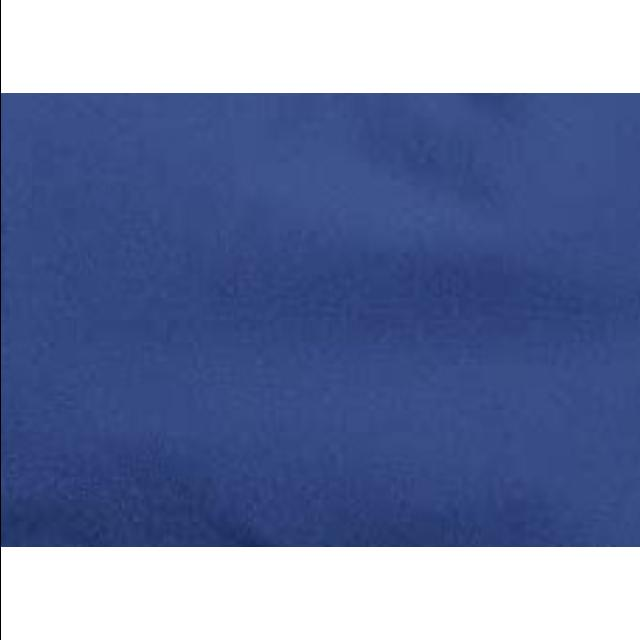polyester: (0, 93, 640, 547)
